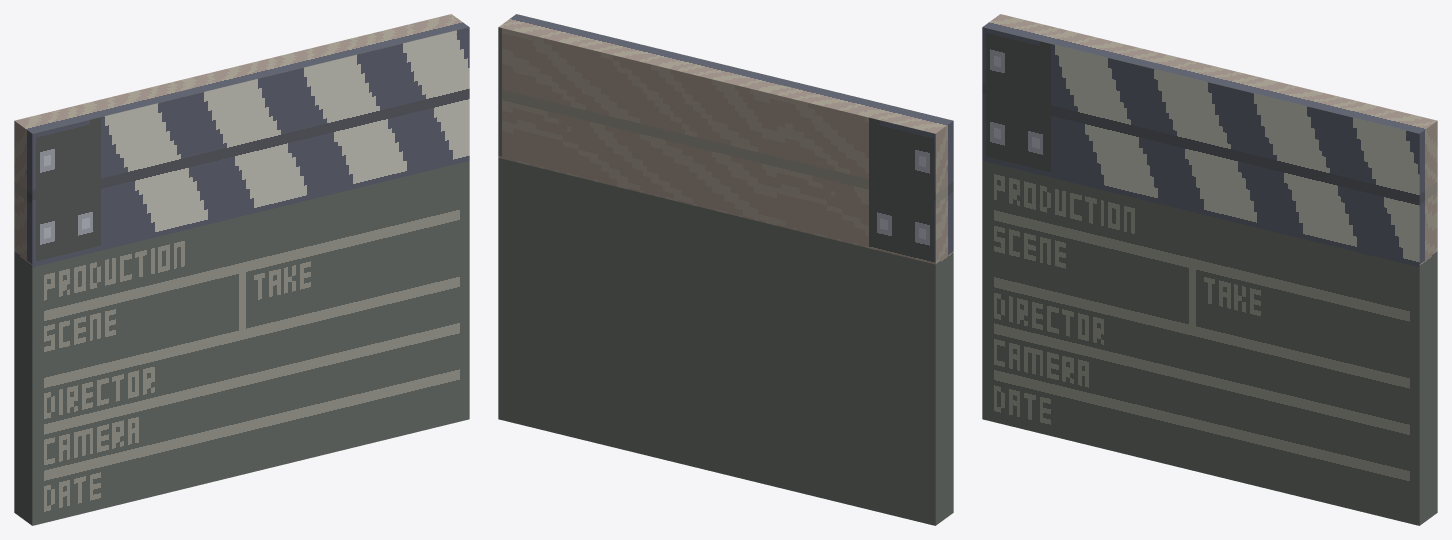
Rendered from vfx.glb.
3 renders of one model, left to right at view 1: azimuth 30°, elevation 25°; view 2: azimuth 150°, elevation 25°; view 3: azimuth 330°, elevation 25°, orthographic.
Visible parts, largest first — view 1: part_0; view 2: part_0; view 3: part_0.
Boxes of the visible parts, box(x1,y1,x2,y2) form: part_0: box(14, 14, 469, 525); part_0: box(498, 14, 953, 525); part_0: box(982, 14, 1437, 525).
Size of the model in its own units: 0.28 by 0.24 by 0.02.
1 material, 1 textured.
